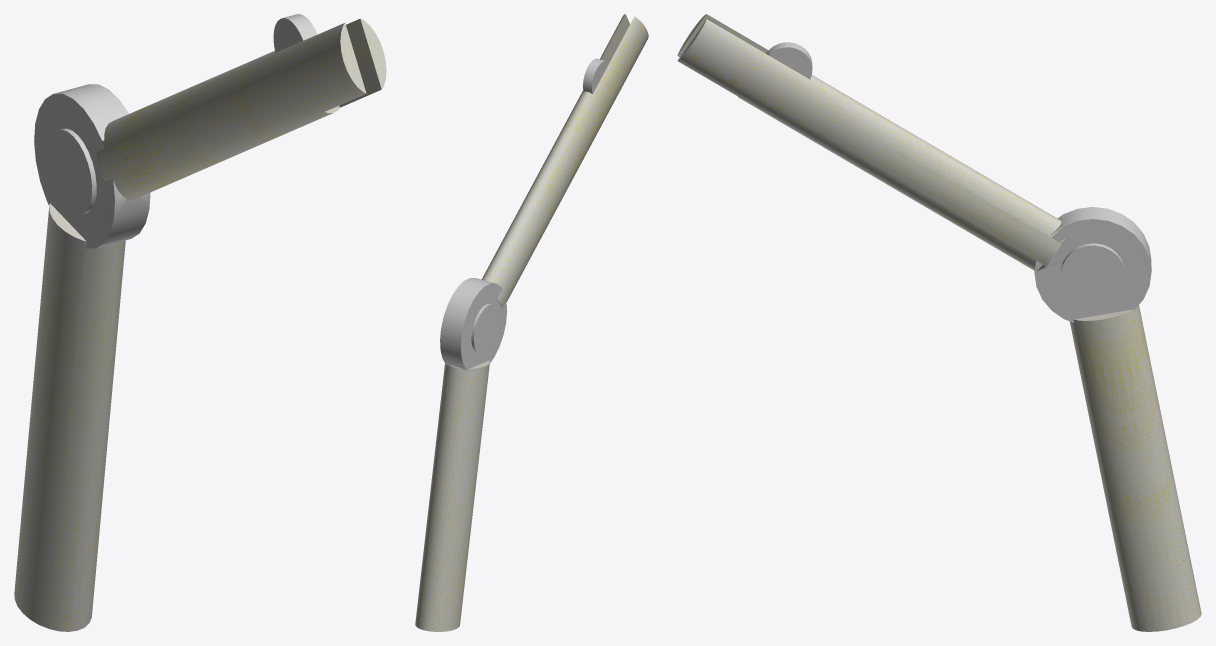
The model's file is original-12.obj.
The picture shows the model from 3 angles, left to right: view 1: azimuth 30°, elevation 25°; view 2: azimuth 150°, elevation 25°; view 3: azimuth 270°, elevation 25°; orthographic projection. The views are drawn at different scales.
Parts seen in each view (by area): view 1: Component_39_1/Component_39/mesh36/mesh36-geometry#mesh36-geomet; view 2: Component_39_1/Component_39/mesh36/mesh36-geometry#mesh36-geomet; view 3: Component_39_1/Component_39/mesh36/mesh36-geometry#mesh36-geomet.
Part boxes in pixels (x1,y1,x2,y2): Component_39_1/Component_39/mesh36/mesh36-geometry#mesh36-geomet: [14, 14, 386, 631]; Component_39_1/Component_39/mesh36/mesh36-geometry#mesh36-geomet: [415, 14, 648, 631]; Component_39_1/Component_39/mesh36/mesh36-geometry#mesh36-geomet: [677, 14, 1201, 631].
Size of the model in its own units: 0.0195 by 0.2235 by 0.1758.
